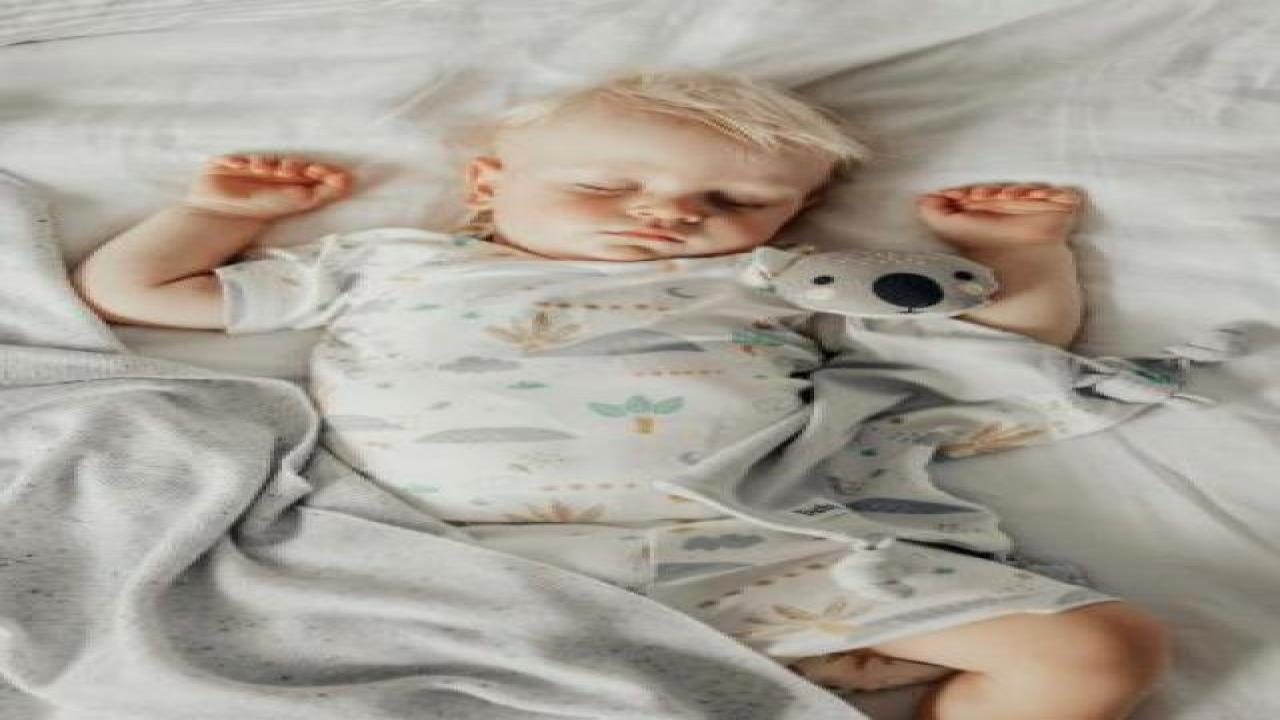hand: (189, 150, 357, 218), (923, 182, 1086, 246)
